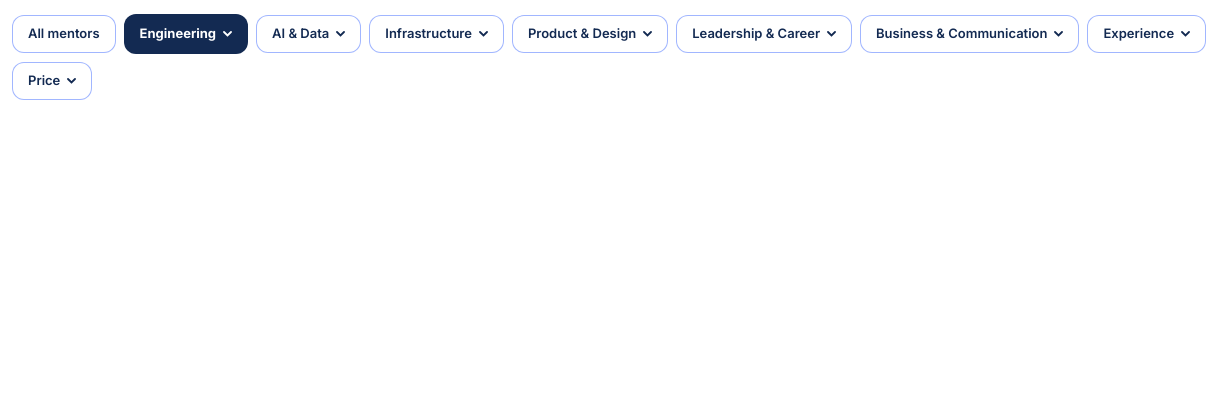
Test case: MentorsFilters › narrows to a single tag from the category dropdown and closes the panel
Note: Active category click opens the dropdown
What coordinates should you click on to do the following:
click the button "Engineering"
I would click on:
 (186, 34)
Its box is [124,14,248,54].
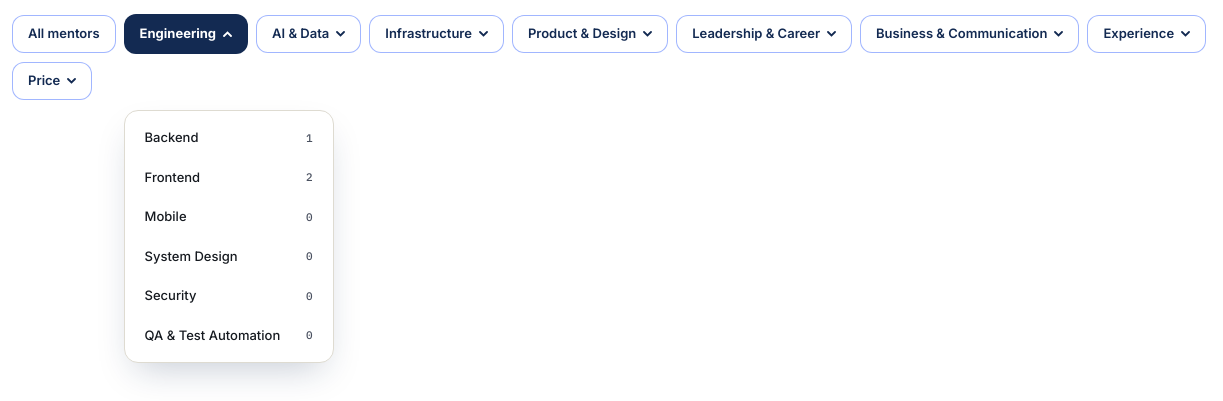
What coordinates should you click on to do the following:
click the button "Backend 1"
I would click on:
 (229, 138)
Its box is [133,119,325,156].
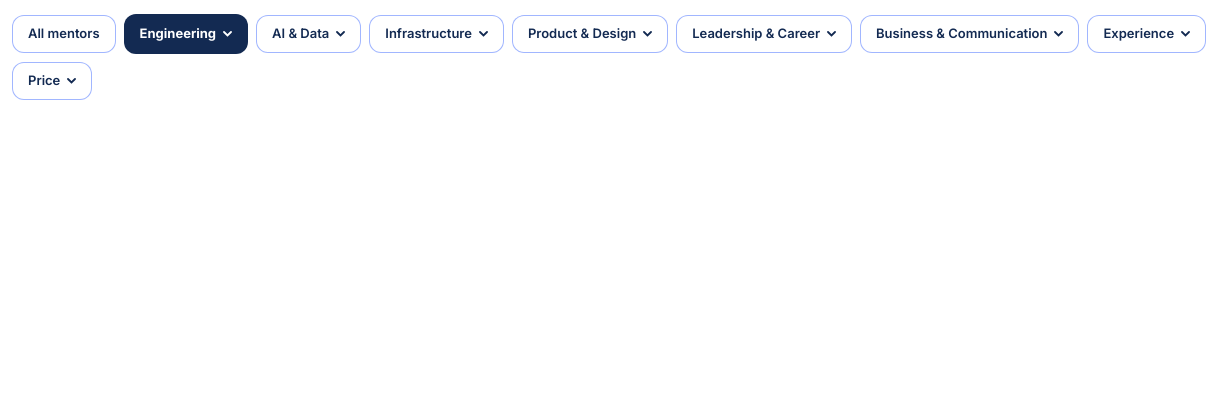
Expected: the button "Mobile" is gone
